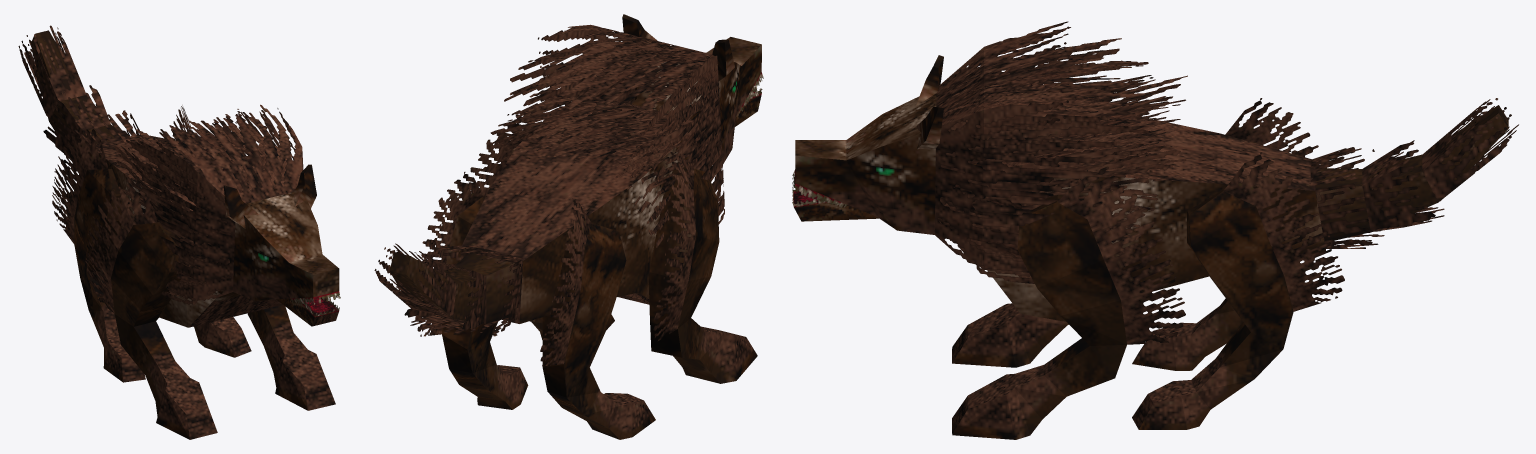
File: warg.obj
3 renders of one model, left to right at view 1: azimuth 30°, elevation 25°; view 2: azimuth 150°, elevation 25°; view 3: azimuth 270°, elevation 25°, orthographic. The views are drawn at different scales.
Visible parts, largest first — view 1: Head, LegRightFront, LegRightBack, Tail, Body, LegLeftFront, LegLeftBack, Mouth; view 2: Body, Head, LegRightBack, LegRightFront, Tail, LegLeftBack, LegLeftFront, Mouth; view 3: Head, LegLeftFront, Body, LegLeftBack, Tail, LegRightBack, LegRightFront, Mouth.
Boxes of the visible parts, box(x1,y1,x2,y2) form: Head: box(126, 104, 340, 304); LegRightFront: box(85, 179, 217, 439); LegRightBack: box(52, 126, 145, 382); Tail: box(18, 25, 139, 180); Body: box(89, 122, 282, 327); LegLeftFront: box(247, 304, 335, 410); LegLeftBack: box(171, 105, 251, 357); Mouth: box(276, 297, 339, 326); Body: box(460, 95, 701, 323); Head: box(504, 14, 763, 224); LegRightBack: box(540, 198, 655, 439); LegRightFront: box(648, 149, 757, 383); Tail: box(374, 243, 523, 336); LegLeftBack: box(415, 172, 528, 409); LegLeftFront: box(462, 114, 614, 339); Mouth: box(735, 87, 762, 126); Head: box(792, 21, 1148, 283); LegLeftFront: box(952, 166, 1185, 439); Body: box(975, 75, 1325, 321); LegLeftBack: box(1132, 152, 1344, 429); Tail: box(1310, 98, 1518, 248); LegRightBack: box(1132, 98, 1326, 370); LegRightFront: box(952, 99, 1141, 367); Mouth: box(792, 188, 878, 221).
Size of the model in its own units: 1.19 by 1.81 by 3.53.
